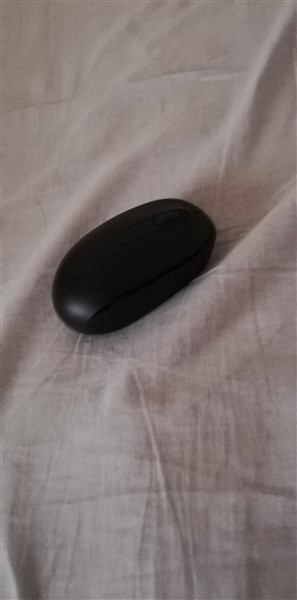mouse: (45, 191, 223, 344)
